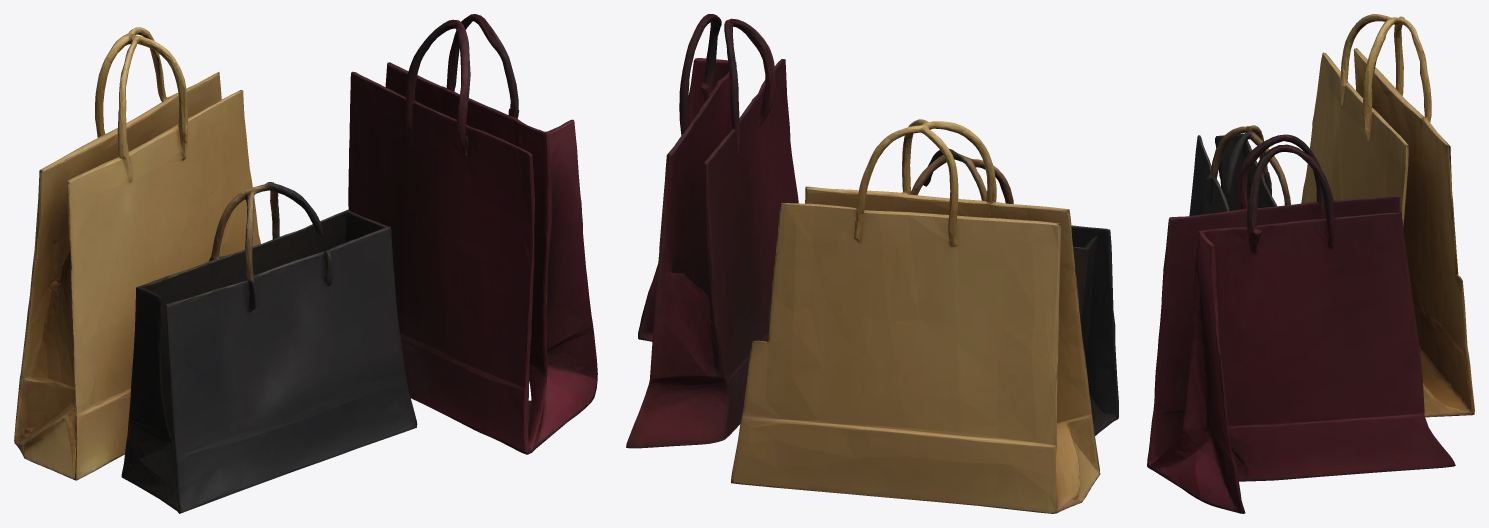
3 renders of one model, left to right at view 1: azimuth 30°, elevation 25°; view 2: azimuth 150°, elevation 25°; view 3: azimuth 270°, elevation 25°, orthographic. The views are drawn at different scales.
Parts seen in each view (by area): view 1: geometry_0; view 2: geometry_0; view 3: geometry_0.
Part boxes in pixels (x1,y1,x2,y2): geometry_0: (14, 14, 597, 513); geometry_0: (626, 14, 1118, 513); geometry_0: (1147, 14, 1474, 513).
Size of the model in its own units: 0.9955 by 0.7057 by 0.62.
1 material, 1 textured.
